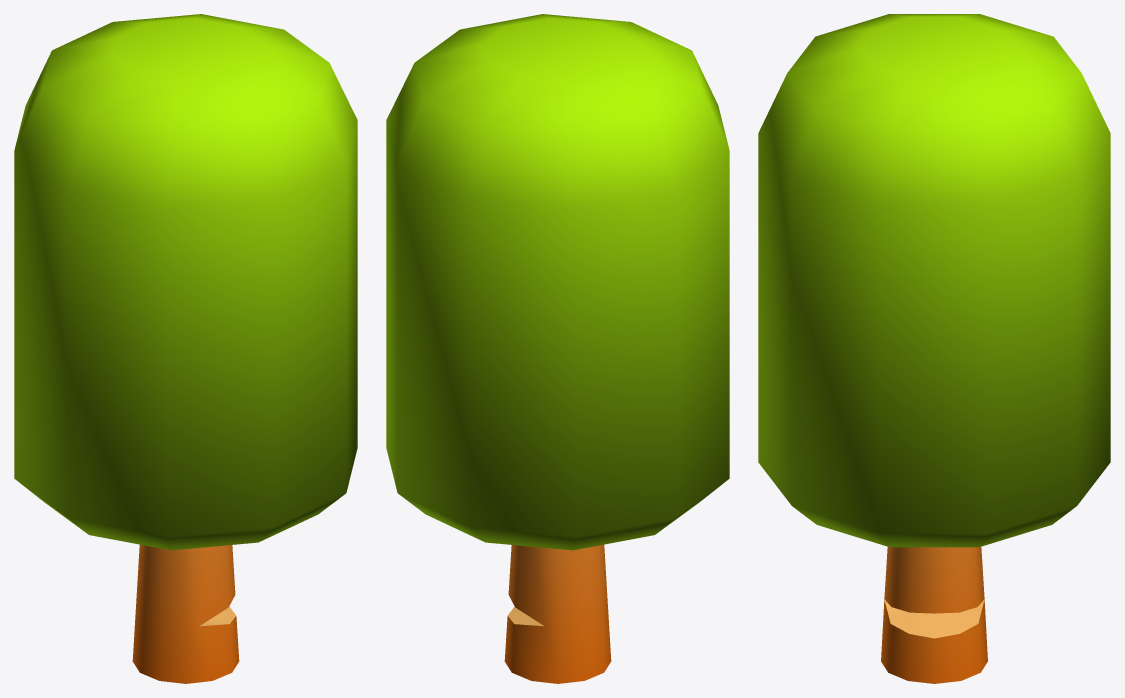
The model's file is Plant_A_Step_03.fbx.
The picture shows the model from 3 angles, left to right: view 1: azimuth 30°, elevation 25°; view 2: azimuth 150°, elevation 25°; view 3: azimuth 270°, elevation 25°; orthographic projection.
Parts seen in each view (by area): view 1: Plant_A_Step_03; view 2: Plant_A_Step_03; view 3: Plant_A_Step_03.
Part boxes in pixels (bbox=[...]): Plant_A_Step_03: bbox=[14, 14, 357, 683]; Plant_A_Step_03: bbox=[386, 14, 729, 683]; Plant_A_Step_03: bbox=[758, 14, 1110, 683].
Bounding box in the file's own units: 406 × 818 × 426.
